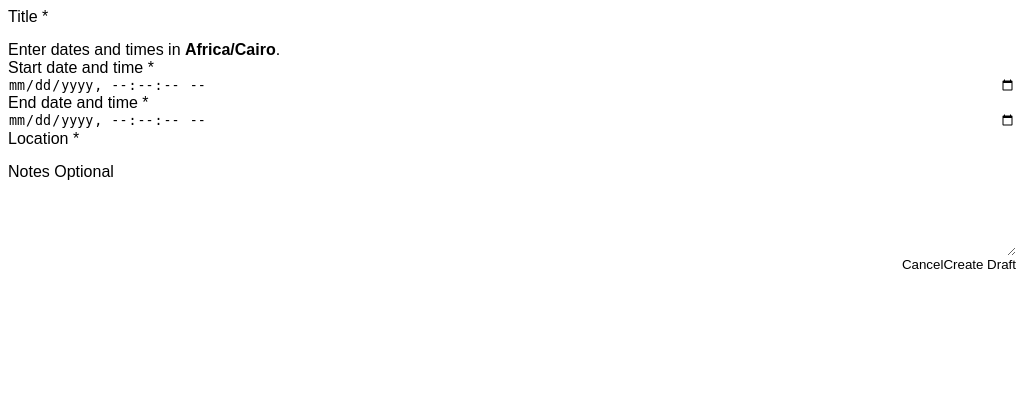
Test: DraftEventFormComponent › labels Cairo times and exposes validation after a missing-field submission
Expected: the label "Title *" is shown, [8,8,48,25]
Click the submit button: coordinates (980, 264) [943,256,1016,273]
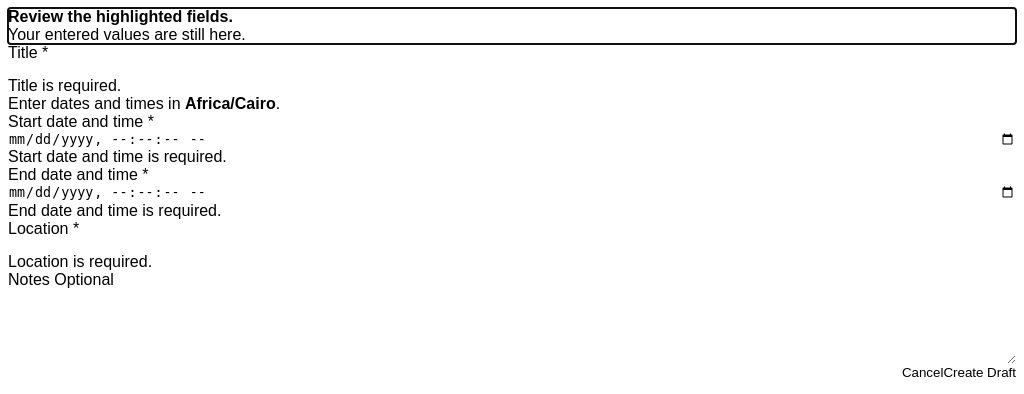
Expected: the text "Review the highlighted fields." is shown, [8,8,233,25]
Expected: the text "Title is required." is shown, [8,77,121,94]
